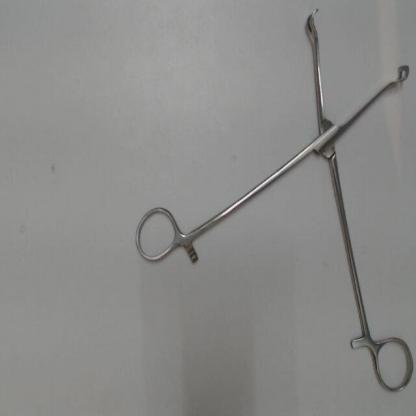8 Babcock Tissue Forceps: (128, 3, 414, 401)
